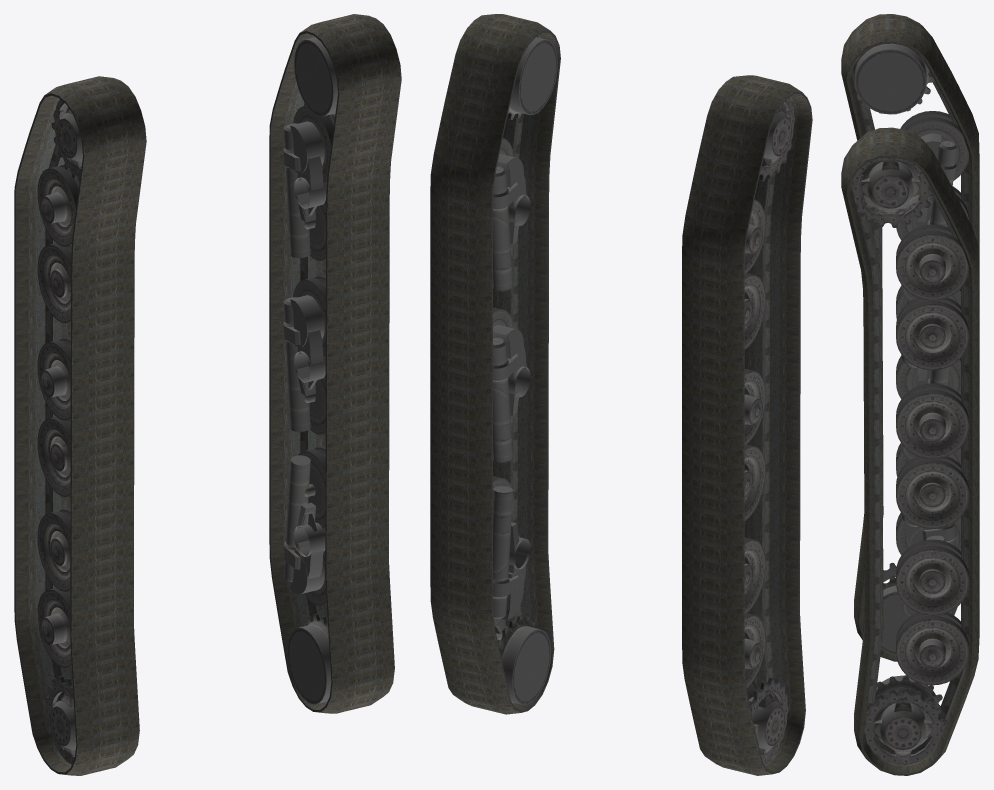
The model's file is Chassis.glb.
3 renders of one model, left to right at view 1: azimuth 30°, elevation 25°; view 2: azimuth 150°, elevation 25°; view 3: azimuth 270°, elevation 25°, orthographic. The views are drawn at different scales.
Visible parts, largest first — view 1: set_1_group_0, set_0_group_0, set_3_group_0, set_2_group_0; view 2: set_1_group_0, set_0_group_0, set_3_group_0, set_2_group_0; view 3: set_3_group_0, set_0_group_0, set_2_group_0, set_1_group_0.
Part boxes in pixels (x1,y1,x2,y2): set_1_group_0: [14, 76, 146, 775]; set_0_group_0: [269, 14, 401, 713]; set_3_group_0: [283, 37, 337, 704]; set_2_group_0: [37, 99, 82, 764]; set_1_group_0: [682, 75, 812, 775]; set_0_group_0: [430, 14, 560, 714]; set_3_group_0: [493, 36, 557, 704]; set_2_group_0: [744, 97, 794, 764]; set_3_group_0: [852, 157, 969, 764]; set_0_group_0: [841, 127, 979, 775]; set_2_group_0: [852, 43, 969, 655]; set_1_group_0: [841, 14, 979, 661].
Size of the model in its own units: 3.26 by 6.75 by 1.34.
4 materials, 4 textured.
